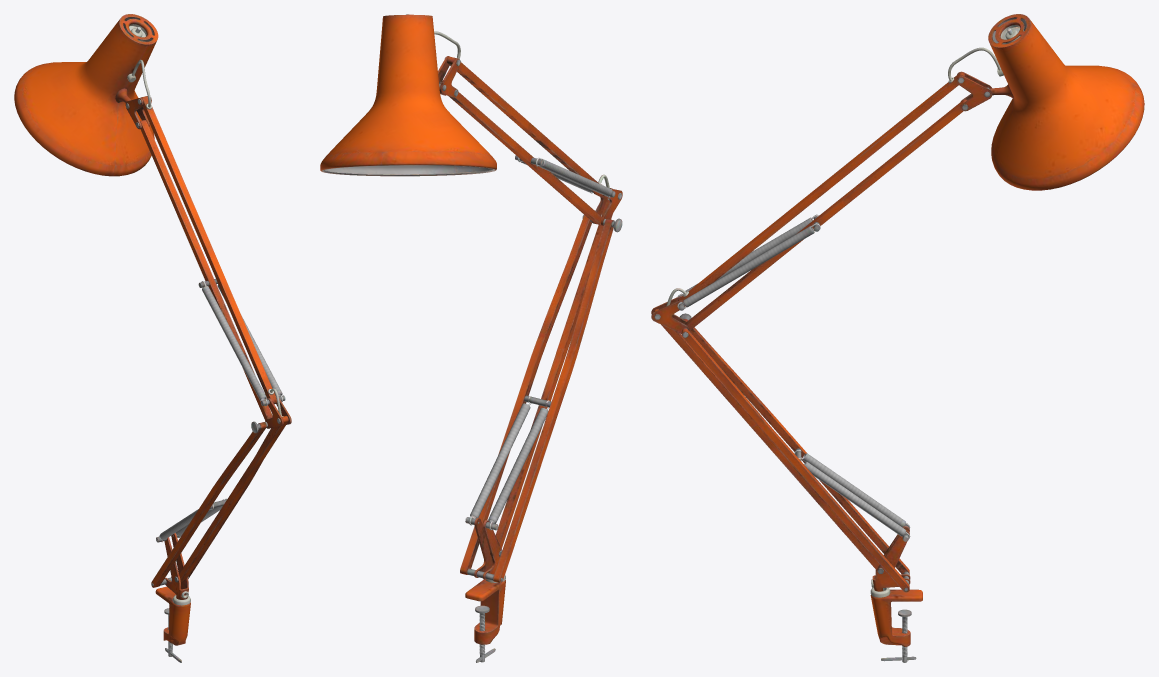
Rendered from desk_lamp_arm_01_1k.gltf.
The picture shows the model from 3 angles, left to right: view 1: azimuth 30°, elevation 25°; view 2: azimuth 150°, elevation 25°; view 3: azimuth 270°, elevation 25°; orthographic projection. The views are drawn at different scales.
Parts seen in each view (by area): view 1: desk_lamp_arm_01; view 2: desk_lamp_arm_01; view 3: desk_lamp_arm_01.
Boxes of the visible parts, x1,y1,x2,y2 form: desk_lamp_arm_01: (14, 14, 291, 662); desk_lamp_arm_01: (320, 14, 622, 662); desk_lamp_arm_01: (651, 14, 1144, 662).
Bounding box in the file's own units: 0.2017 × 0.8926 × 0.6139.
Materials: 2 (2 with a texture image).
